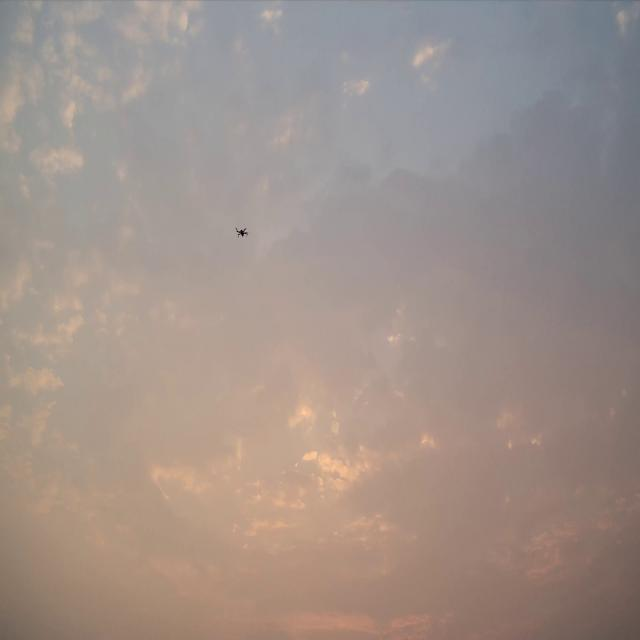UAV: (235, 227, 250, 237)
